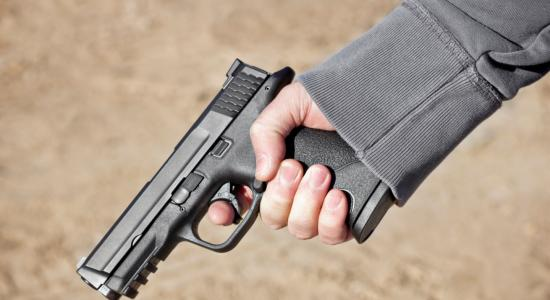gun: (79, 58, 381, 297)
